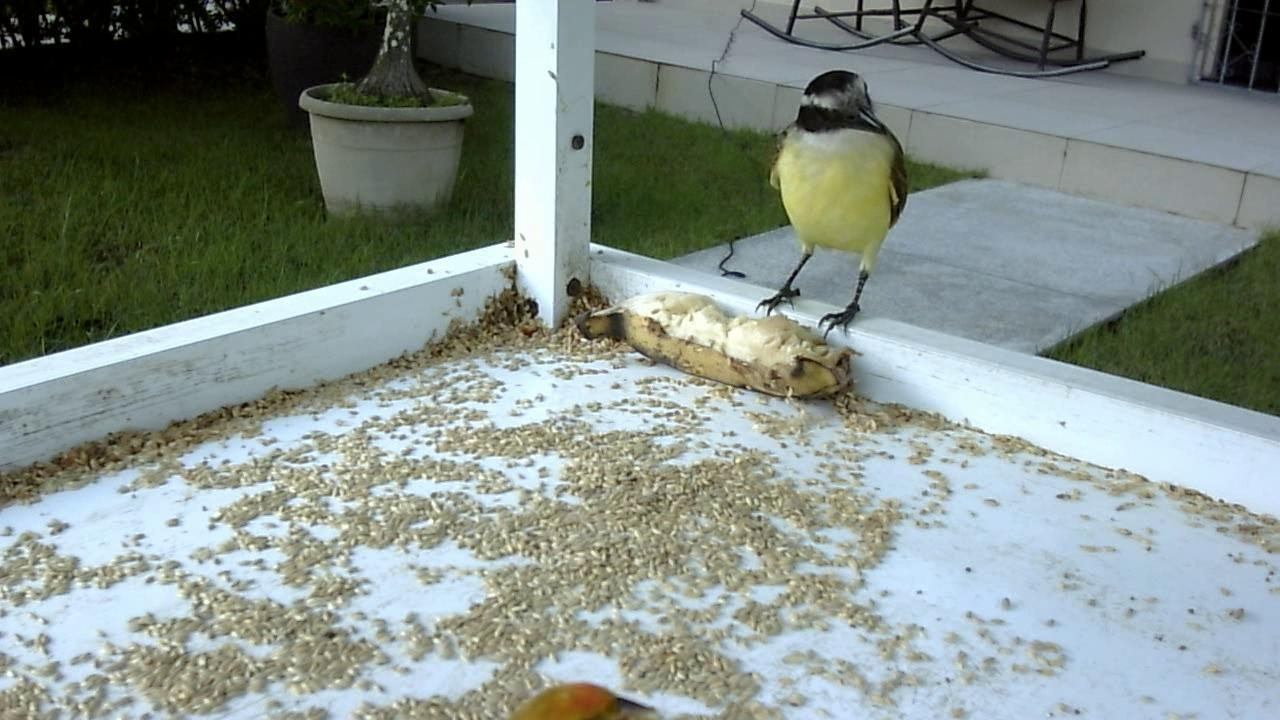bem_te_vi: (706, 53, 922, 351)
canario_do_amazonas: (488, 664, 671, 720)
